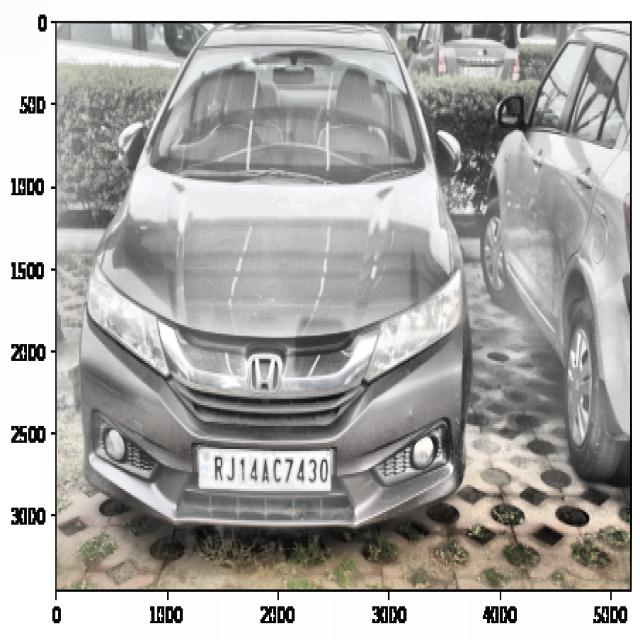license_plate: (207, 448, 333, 494)
